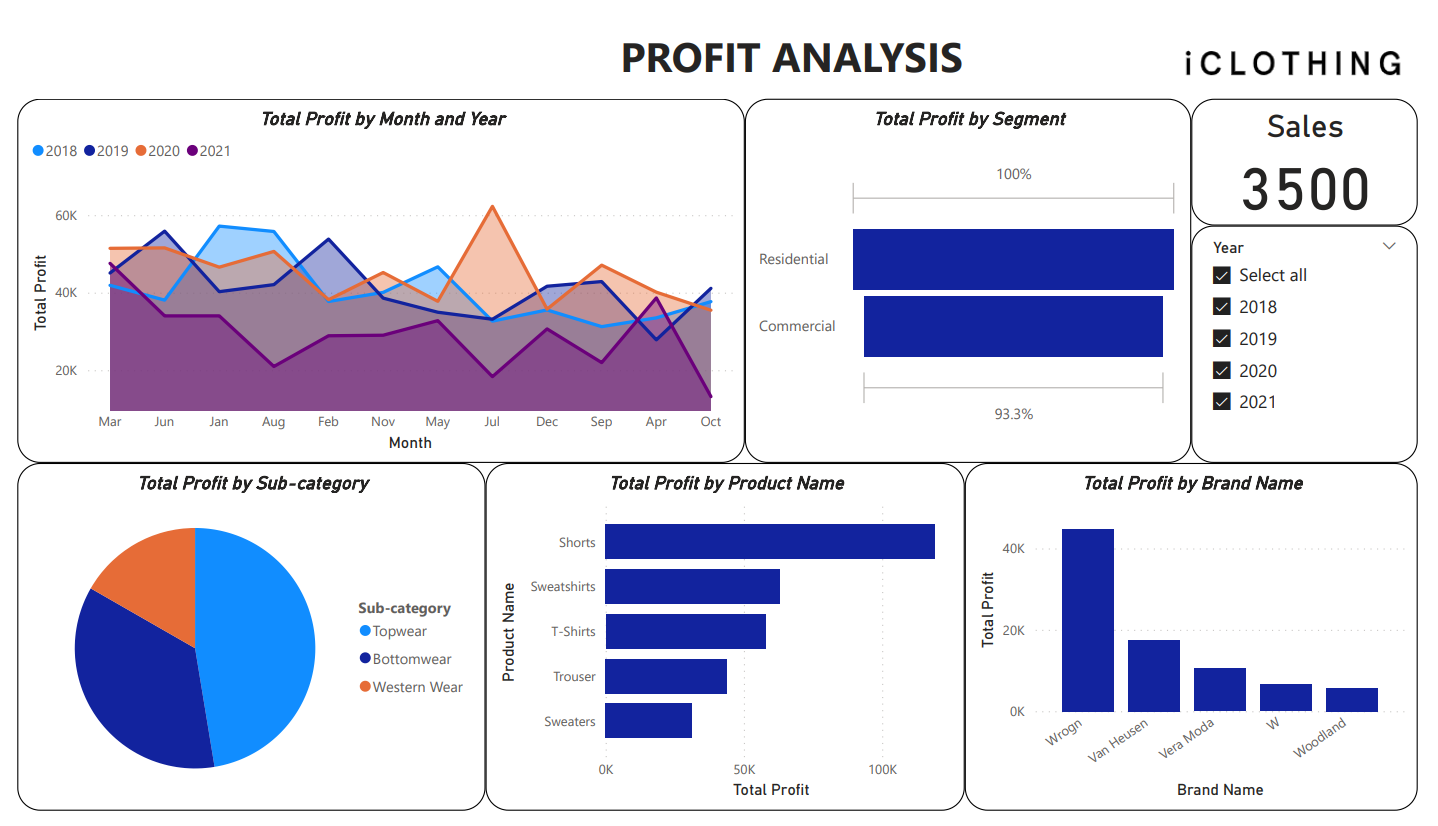

Layout of this report page (visuals, bound fields, positions):
{"tool":"powerbi","page":{"name":"Profit Analysis","canvas":[1280,720],"ordinal":1},"visuals":[{"type":"areaChart","fields":{"Category":["iclothing calender.Month"],"Y":["Sum(iclothing sales.Profit)"],"Series":["iclothing calender.Year"]},"box":[0,68.6,665.1,333.7],"z":0},{"type":"pieChart","fields":{"Category":["iclothing products.Sub-category"],"Y":["Sum(iclothing sales.Profit)"]},"box":[0,402.3,428.2,317.7],"z":1000},{"type":"clusteredBarChart","fields":{"Y":["Sum(iclothing sales.Profit)"],"Category":["iclothing products.Product Name"]},"box":[428.1,402.1,437.7,318.4],"z":2000},{"type":"columnChart","fields":{"Y":["Sum(iclothing sales.Profit)"],"Category":["iclothing products.Brand Name"]},"box":[865.9,402.1,414.4,318.4],"z":3000},{"type":"slicer","fields":{"Values":["iclothing calender.Year"]},"box":[1073.3,184.9,207,217.4],"z":4000},{"type":"textbox","box":[0,0,1026.7,68.6],"z":5000},{"type":"funnel","fields":{"Y":["Sum(iclothing sales.Profit)"],"Category":["iclothing customers.Segment"]},"box":[665.1,68.6,408.1,333.7],"z":6000},{"type":"image","box":[1041.5,0,238.8,68.6],"z":7000},{"type":"card","title":"Sales","fields":{"Values":["Count(iclothing sales.Order ID)"]},"box":[1073.3,68.6,207,116.3],"z":8001}]}

Visuals, with their boxes in screenshot pixels (x1, y1, x2, y2), scaled from the page's 1280x720 canvas onto the 1438x826 screenshot:
areaChart - iclothing calender.Month x Sum(iclothing sales.Profit): [0, 79, 747, 462]
pieChart - iclothing products.Sub-category x Sum(iclothing sales.Profit): [0, 462, 481, 825]
clusteredBarChart - Sum(iclothing sales.Profit) x iclothing products.Product Name: [481, 461, 973, 825]
columnChart - Sum(iclothing sales.Profit) x iclothing products.Brand Name: [973, 461, 1437, 825]
slicer - iclothing calender.Year: [1206, 212, 1437, 462]
textbox: [0, 0, 1153, 79]
funnel - Sum(iclothing sales.Profit) x iclothing customers.Segment: [747, 79, 1206, 462]
image: [1170, 0, 1437, 79]
"Sales" card: [1206, 79, 1437, 212]
